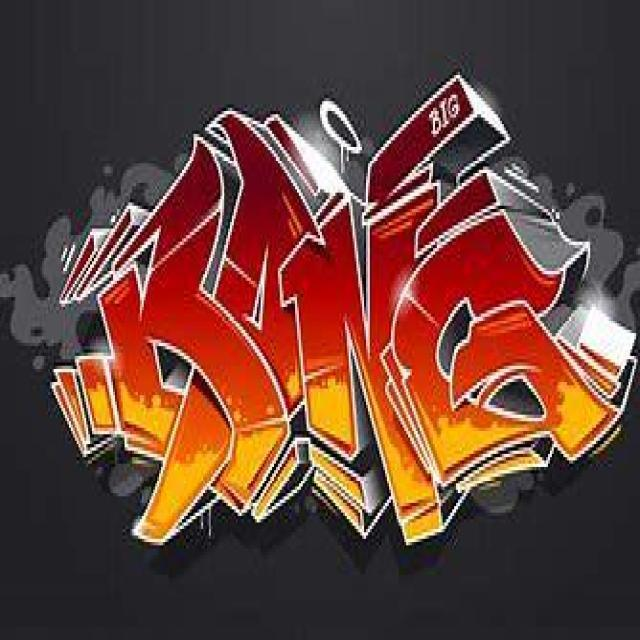nonspitting: (50, 71, 640, 548)
